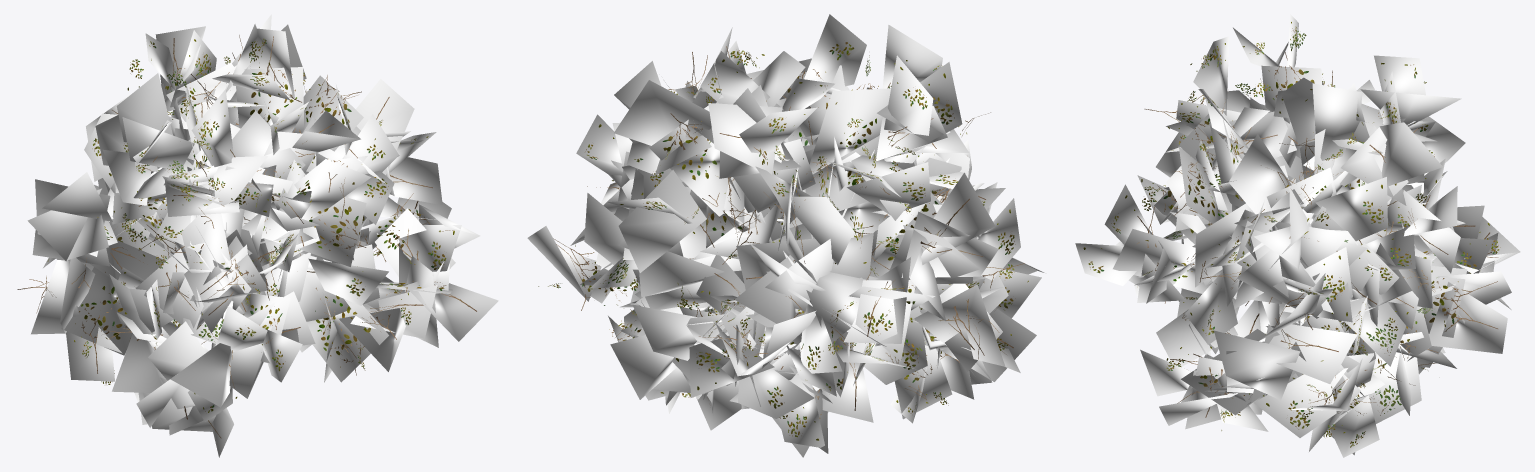
File: barberry1.glb
The picture shows the model from 3 angles, left to right: view 1: azimuth 30°, elevation 25°; view 2: azimuth 150°, elevation 25°; view 3: azimuth 270°, elevation 25°; orthographic projection. The views are drawn at different scales.
Parts seen in each view (by area): view 1: barberry1; view 2: barberry1; view 3: barberry1.
Boxes of the visible parts, bbox=[...] form: barberry1: bbox=[17, 14, 498, 457]; barberry1: bbox=[527, 14, 1044, 457]; barberry1: bbox=[1075, 14, 1520, 457].
Bounding box in the file's own units: 4.22 × 3.17 × 3.61.
Materials: 3 (2 with a texture image).
